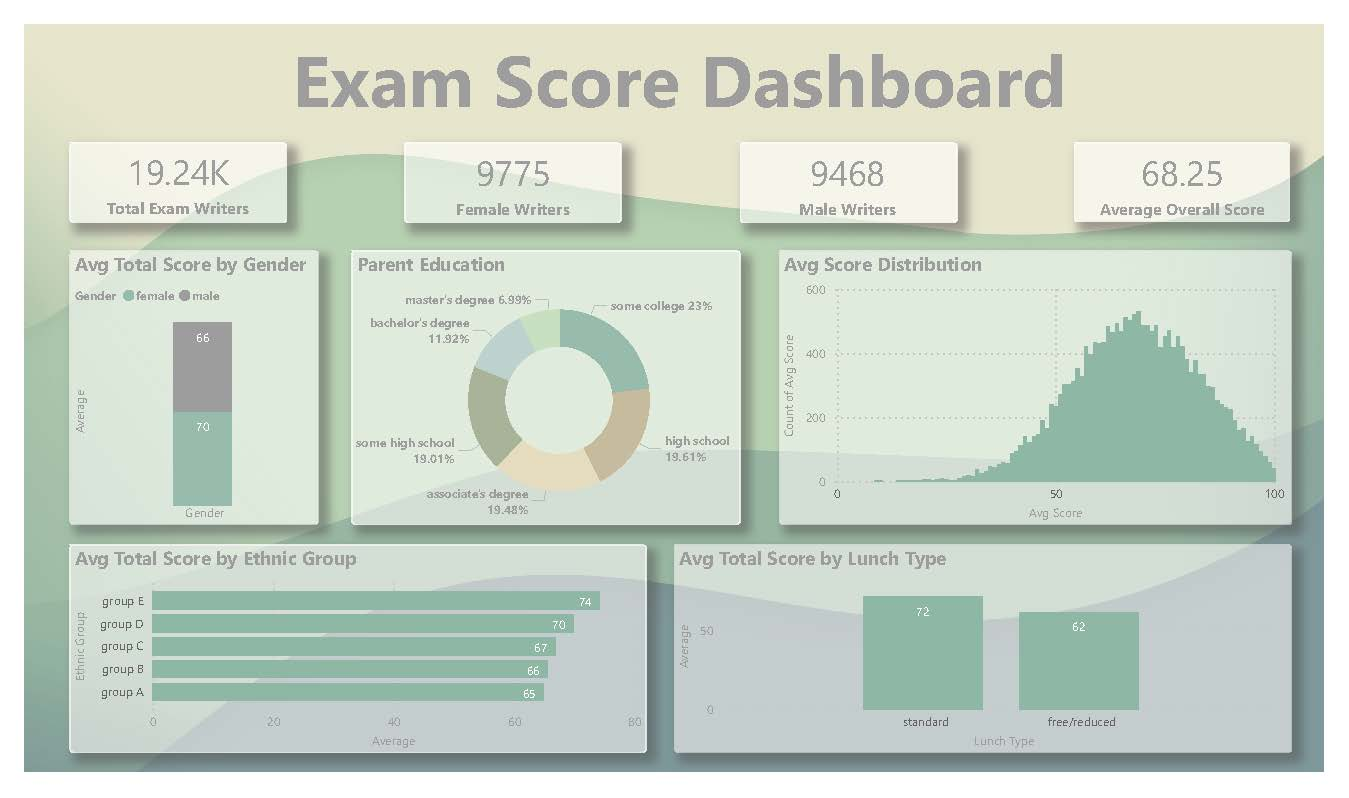

What the dashboard file says about the page in this screenshot:
{"tool":"powerbi","page":{"name":"Page 1","canvas":[1300,750],"ordinal":0},"visuals":[{"type":"shape","box":[45.4,520.6,576.9,208.4],"z":0},{"type":"shape","box":[45.4,227.2,248.9,273.6],"z":1000},{"type":"shape","box":[45.4,118.5,216.3,80],"z":2000},{"type":"shape","box":[380.3,118.5,216.3,80],"z":3000},{"type":"shape","box":[716.2,118.5,216.3,80],"z":4000},{"type":"shape","box":[1049.6,118.8,216.5,79.5],"z":5000},{"type":"textbox","box":[261.8,0,874.2,109.7],"z":6000},{"type":"card","fields":{"Values":["CountNonNull(Exam_Score_Cleaned.IsFirstChild)"]},"box":[45.4,117.6,216.3,80],"z":7000},{"type":"shape","box":[754.7,227.2,513.7,273.6],"z":8000},{"type":"card","fields":{"Values":["CountNonNull(Exam_Score_Cleaned.Gender)"]},"box":[379.7,118.5,217.3,80],"z":9000},{"type":"card","fields":{"Values":["CountNonNull(Exam_Score_Cleaned.Gender)"]},"box":[714.9,118.5,217.3,80],"z":10000},{"type":"card","fields":{"Values":["Avg(Exam_Score_Cleaned.AvgScore)"]},"box":[1050.1,118.5,217.3,80],"z":11000},{"type":"barChart","title":"Avg Total Score by Ethnic Group","fields":{"Y":["Avg(Exam_Score_Cleaned.AvgScore)"],"Category":["Exam_Score_Cleaned.EthnicGroup"]},"box":[45.4,520.6,576.9,208.4],"z":12000},{"type":"shape","box":[650,520.6,618.4,208.4],"z":13000},{"type":"columnChart","title":"Avg Total Score by Gender","fields":{"Y":["Avg(Exam_Score_Cleaned.AvgScore)"],"Series":["Exam_Score_Cleaned.Gender"]},"box":[45.4,227.2,248.9,273.6],"z":14000},{"type":"shape","box":[327,227.2,389.2,273.6],"z":15000},{"type":"donutChart","title":"Parent Education","fields":{"Category":["Exam_Score_Cleaned.ParentEduc"],"Y":["CountNonNull(Exam_Score_Cleaned.ParentEduc)"]},"box":[327,227.2,414.9,273.6],"z":16000},{"type":"columnChart","title":"Avg Total Score by Lunch Type","fields":{"Category":["Exam_Score_Cleaned.LunchType"],"Y":["Avg(Exam_Score_Cleaned.AvgScore)"]},"box":[650,520.6,616.4,208.4],"z":17000},{"type":"columnChart","title":"Avg Score Distribution","fields":{"Category":["Exam_Score_Cleaned.AvgScore"],"Y":["CountNonNull(Exam_Score_Cleaned.Gender)"]},"box":[754.7,227.2,511.7,273.6],"z":17001}]}

Visuals, with their boxes in screenshot pixels (x1, y1, x2, y2), scaled from the page's 1300x750 canvas onto the 1349x798 screenshot:
shape: (left=47, top=554, right=646, bottom=776)
shape: (left=47, top=242, right=305, bottom=533)
shape: (left=47, top=126, right=272, bottom=211)
shape: (left=395, top=126, right=619, bottom=211)
shape: (left=743, top=126, right=968, bottom=211)
shape: (left=1089, top=126, right=1314, bottom=211)
textbox: (left=272, top=0, right=1179, bottom=117)
card - CountNonNull(Exam_Score_Cleaned.IsFirstChild): (left=47, top=125, right=272, bottom=210)
shape: (left=783, top=242, right=1316, bottom=533)
card - CountNonNull(Exam_Score_Cleaned.Gender): (left=394, top=126, right=620, bottom=211)
card - CountNonNull(Exam_Score_Cleaned.Gender): (left=742, top=126, right=967, bottom=211)
card - Avg(Exam_Score_Cleaned.AvgScore): (left=1090, top=126, right=1315, bottom=211)
"Avg Total Score by Ethnic Group" barChart: (left=47, top=554, right=646, bottom=776)
shape: (left=674, top=554, right=1316, bottom=776)
"Avg Total Score by Gender" columnChart: (left=47, top=242, right=305, bottom=533)
shape: (left=339, top=242, right=743, bottom=533)
"Parent Education" donutChart: (left=339, top=242, right=770, bottom=533)
"Avg Total Score by Lunch Type" columnChart: (left=674, top=554, right=1314, bottom=776)
"Avg Score Distribution" columnChart: (left=783, top=242, right=1314, bottom=533)
